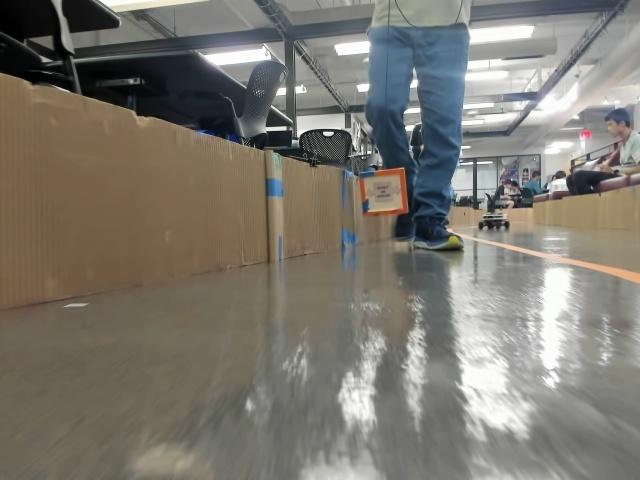Do Not Go Around: (365, 183, 398, 202)
